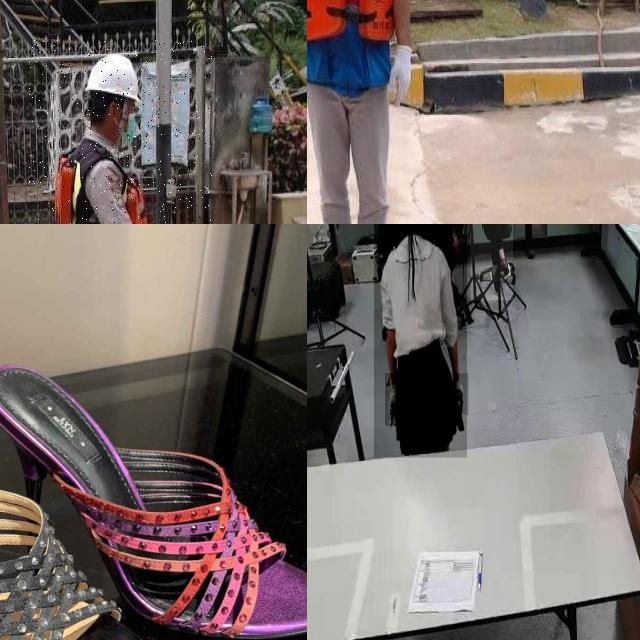Sandals: (0, 329, 307, 640), (0, 360, 181, 640)
hand_glove: (447, 373, 469, 416), (385, 373, 401, 427)
head_helmet: (86, 49, 145, 109)
person: (307, 0, 461, 224), (28, 39, 213, 224), (374, 224, 467, 458), (470, 224, 513, 301)
shoes: (488, 263, 502, 298), (499, 254, 513, 281)
vest: (307, 0, 398, 92), (55, 142, 155, 224)
